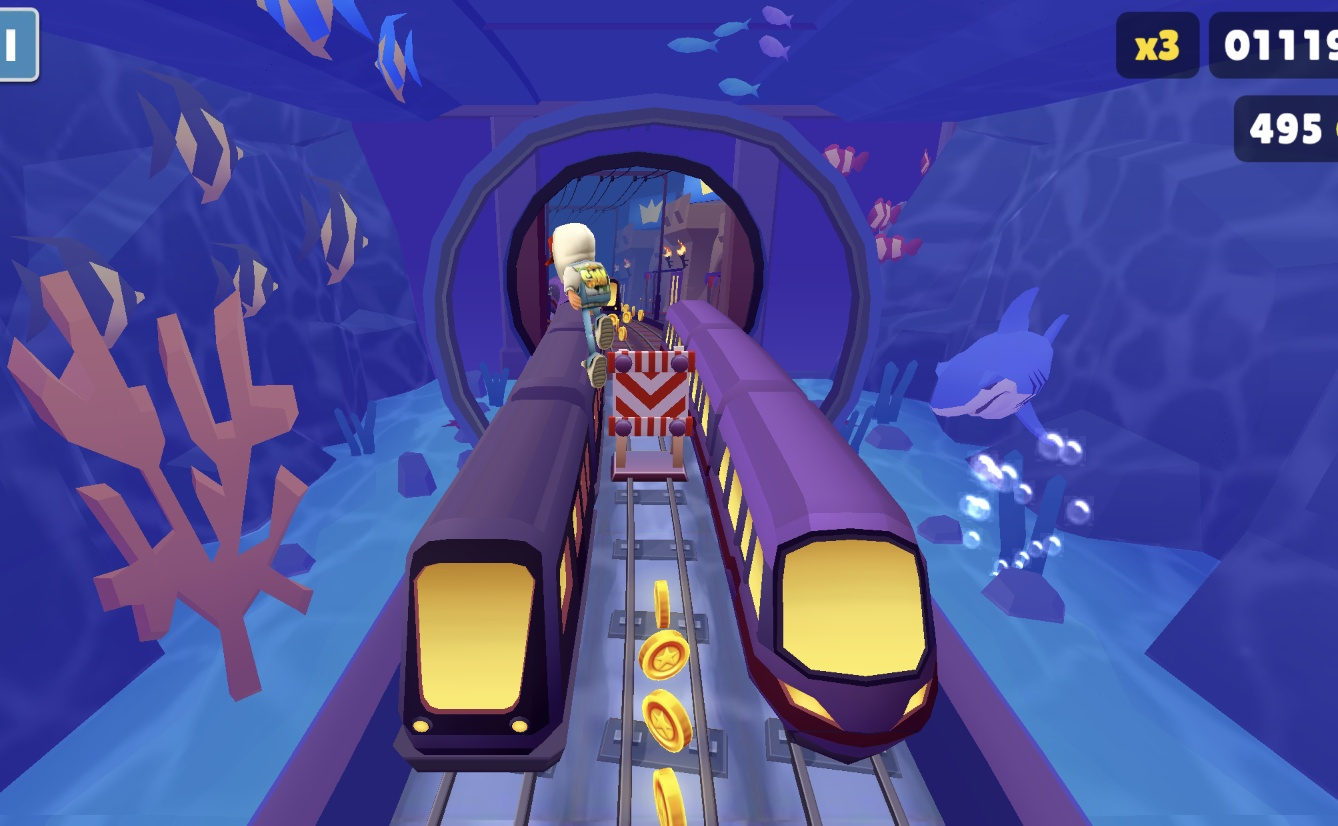overhead_barrier: (597, 337, 704, 477)
train: (699, 297, 949, 771), (394, 392, 612, 769)
